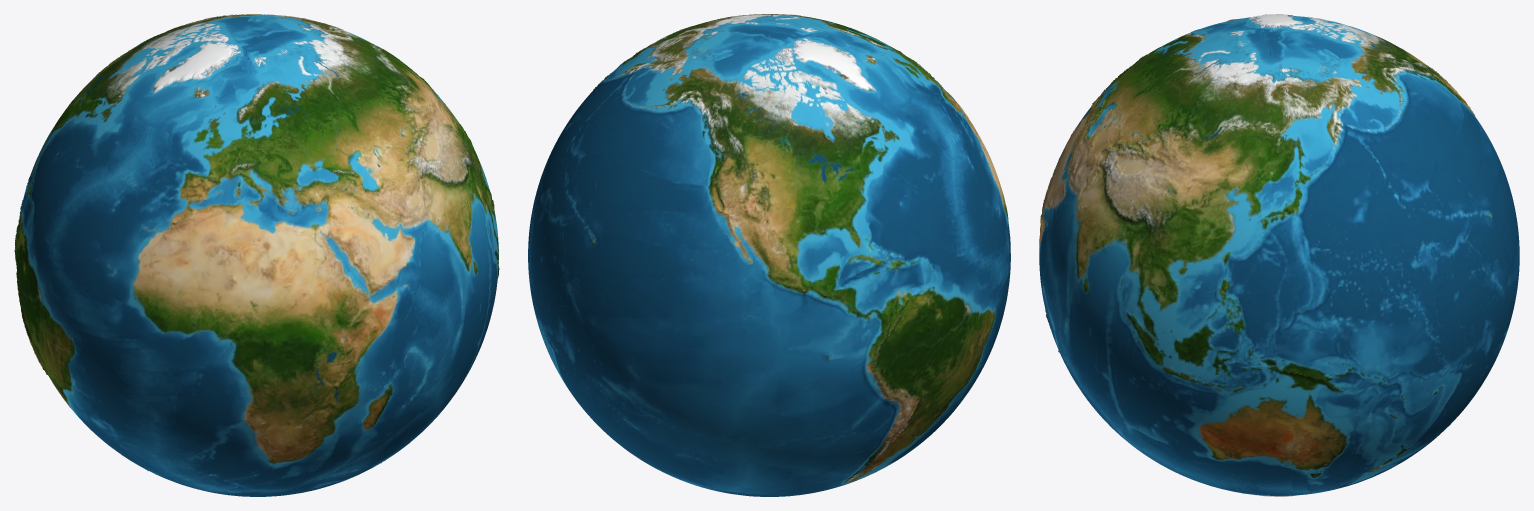
The picture shows the model from 3 angles, left to right: view 1: azimuth 30°, elevation 25°; view 2: azimuth 150°, elevation 25°; view 3: azimuth 270°, elevation 25°; orthographic projection.
Visible parts, largest first — view 1: Object_2; view 2: Object_2; view 3: Object_2.
Part boxes in pixels (box(x1,y1,x2,y2)): Object_2: box(14, 14, 499, 496); Object_2: box(528, 14, 1010, 496); Object_2: box(1039, 14, 1519, 496).
Size of the model in its own units: 1 by 1 by 0.9999.
1 material, 1 textured.
